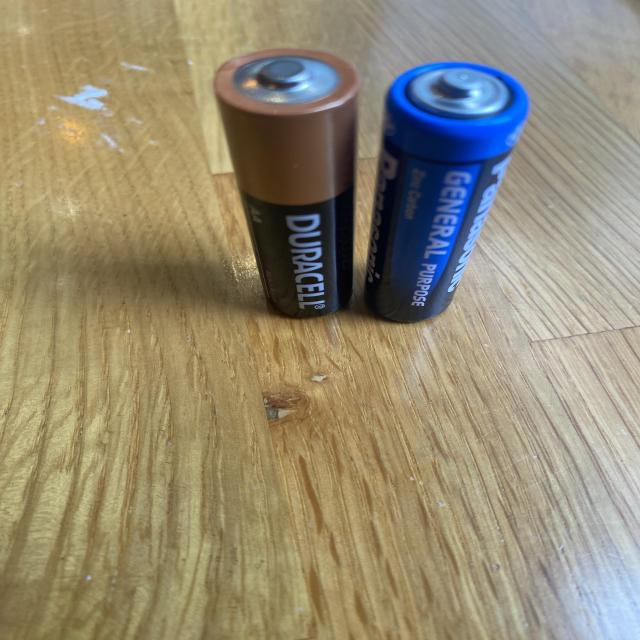AA: (363, 60, 531, 323), (212, 47, 361, 318)
